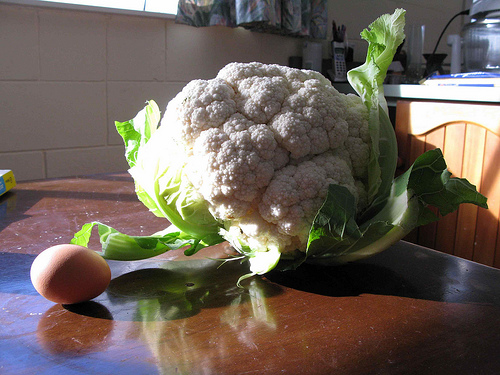cauliflower: (69, 6, 492, 283)
